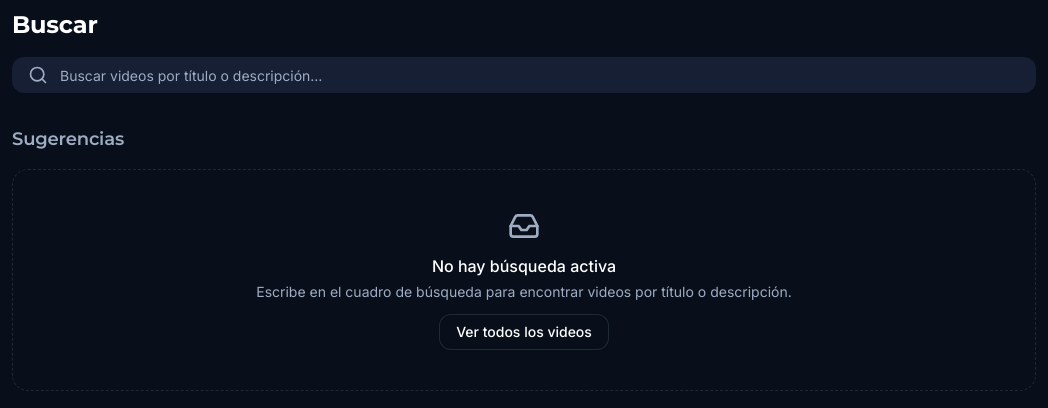
Test case: SearchPage › shows the empty result and clears the search
Step 1. Type "zzz" into the field labelled "Buscar videos" → (524, 75), box [12, 57, 1036, 93]
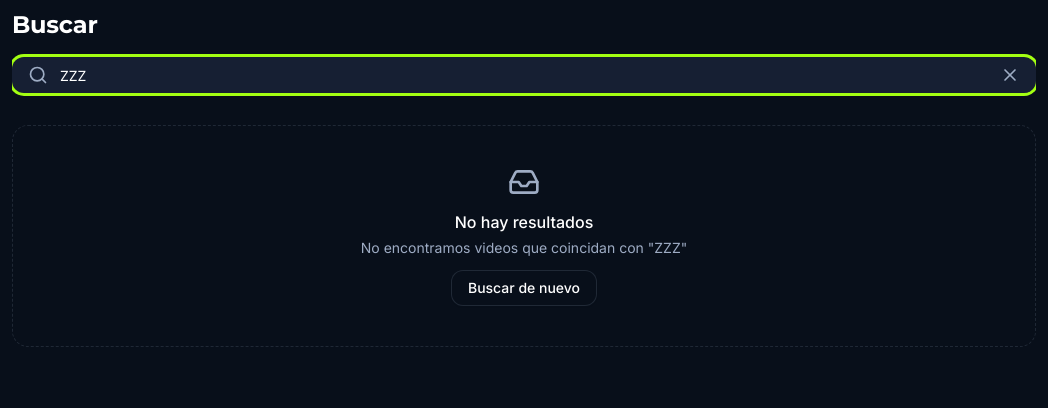
Check: the text "No hay resultados" is shown, box [455, 212, 593, 232]
Step 2. Click the button named "Limpiar búsqueda" → (1010, 75), box [1000, 65, 1020, 85]
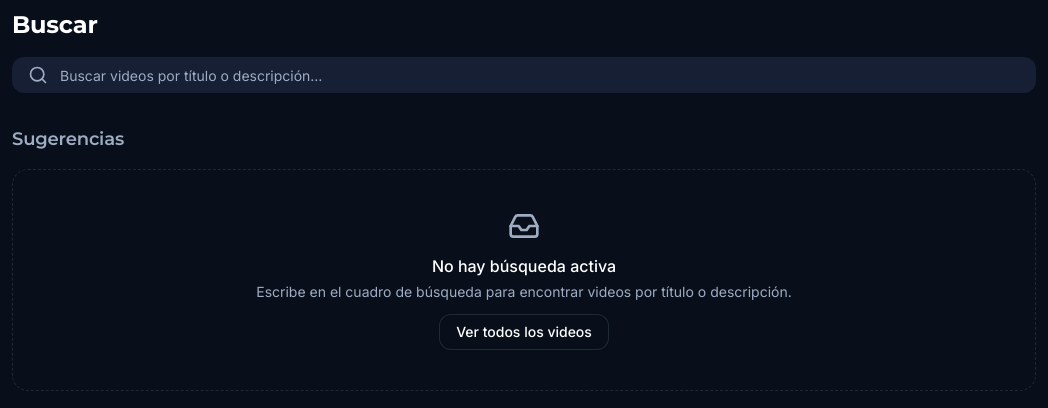
Check: the field labelled "Buscar videos" is empty, box [12, 57, 1036, 93]
Check: the text "No hay búsqueda activa" is shown, box [432, 256, 616, 276]
